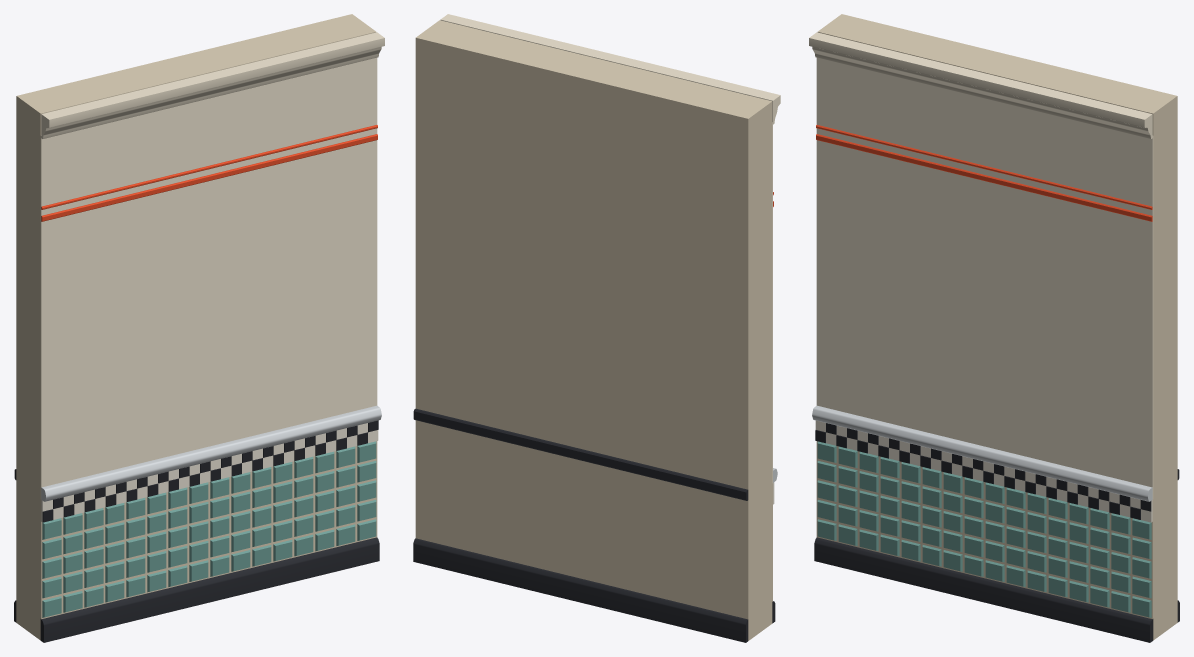
File: Shop_Wall.fbx
3 views of the same model, side by side, from view 1: azimuth 30°, elevation 25°; view 2: azimuth 150°, elevation 25°; view 3: azimuth 330°, elevation 25° (orthographic).
Parts seen in each view (by area): view 1: Upper, Tiles, Core, Grout, Baseboard, ChairRail, CheckerDark, CheckerLight, Stripe; view 2: Core, BackBase, BackBand, Upper; view 3: Upper, Tiles, Core, Grout, Baseboard, ChairRail, CheckerDark, CheckerLight, Stripe.
Part boxes in pixels (box(x1,y1,x2,y2)): Upper: box(40, 32, 384, 499); Tiles: box(42, 441, 376, 617); Core: box(16, 14, 376, 640); Grout: box(40, 441, 377, 619); Baseboard: box(40, 537, 379, 642); ChairRail: box(41, 405, 381, 501); CheckerDark: box(42, 420, 378, 522); CheckerLight: box(41, 423, 378, 522); Stripe: box(41, 125, 377, 221); Core: box(415, 20, 772, 640); BackBase: box(413, 538, 748, 642); BackBand: box(413, 408, 748, 500); Upper: box(440, 14, 780, 483); Upper: box(809, 32, 1153, 499); Tiles: box(817, 441, 1151, 617); Core: box(817, 14, 1177, 640); Grout: box(816, 441, 1153, 619); Baseboard: box(814, 537, 1153, 642); ChairRail: box(812, 405, 1152, 501); CheckerDark: box(815, 423, 1151, 519); CheckerLight: box(815, 420, 1152, 522); Stripe: box(816, 125, 1152, 221).
Bounding box in the file's own units: 800 × 1200 × 145.
